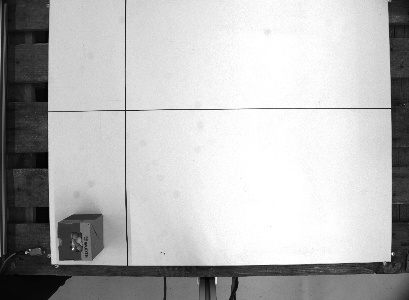b7: (53, 211, 106, 262)
